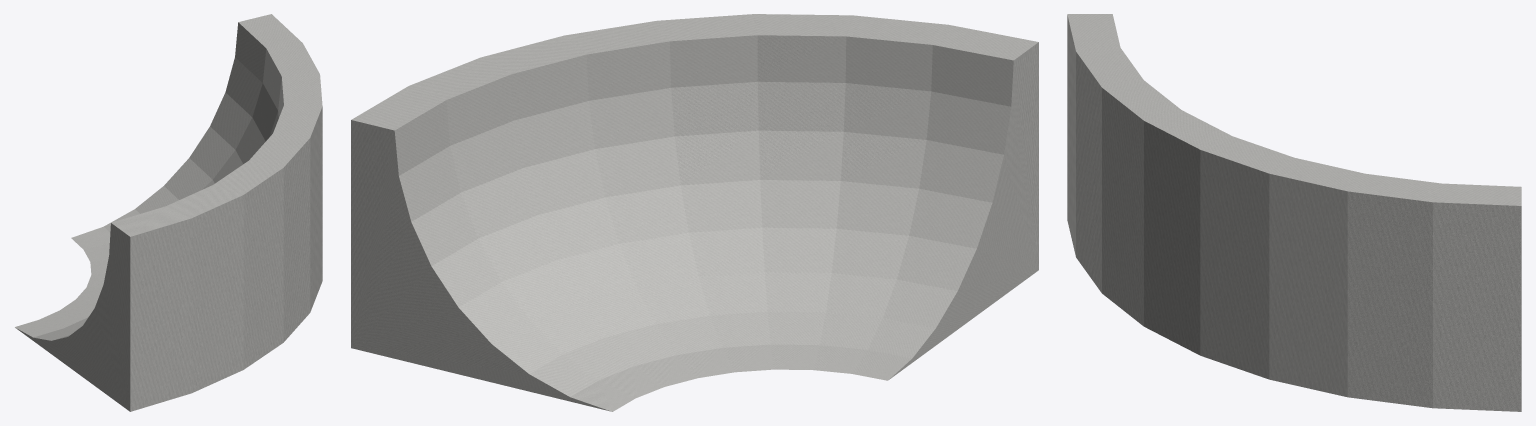
File: skate-park-and-street-sports-bowl-corner-section-b84ea726__33529.glb
3 views of the same model, side by side, from view 1: azimuth 30°, elevation 25°; view 2: azimuth 150°, elevation 25°; view 3: azimuth 270°, elevation 25° (orthographic). The views are drawn at different scales.
Parts seen in each view (by area): view 1: bowl-corner-section-concrete; view 2: bowl-corner-section-concrete; view 3: bowl-corner-section-concrete.
Part boxes in pixels (x1,y1,x2,y2): bowl-corner-section-concrete: (15,14,322,411); bowl-corner-section-concrete: (351,14,1038,411); bowl-corner-section-concrete: (1067,14,1521,411).
Size of the model in its own units: 3 by 1.5 by 3.
1 material, 1 textured.
